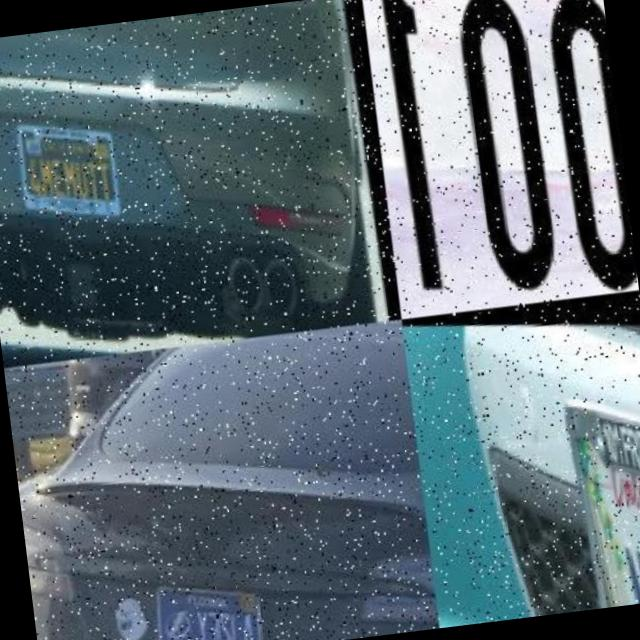LicensePlate: (363, 0, 638, 317), (551, 383, 640, 611), (8, 106, 120, 221), (150, 577, 258, 640)
